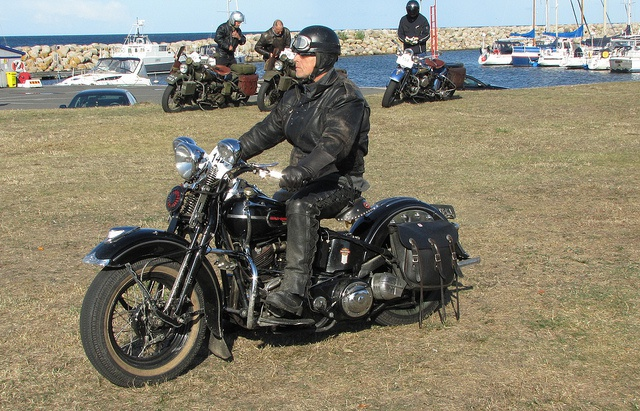non-vehicle: (80, 136, 487, 390), (162, 49, 257, 112), (380, 38, 458, 107), (256, 53, 347, 111)
